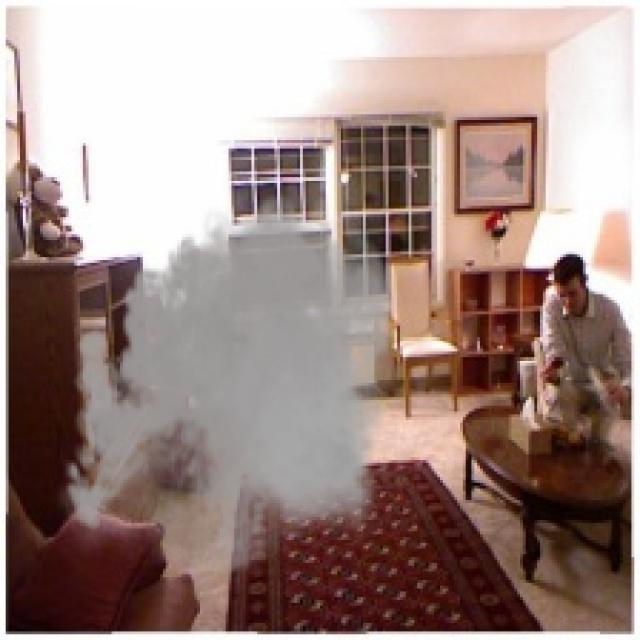Smoke: (54, 180, 406, 597)
